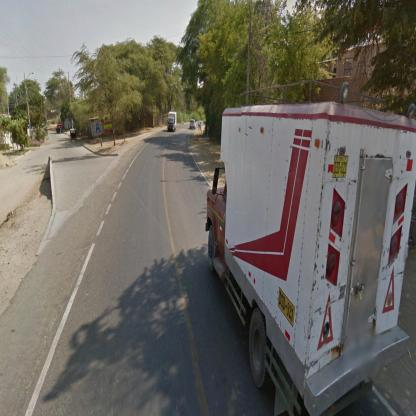Pista: (1, 122, 393, 410)
Vehiculo: (207, 102, 416, 416), (168, 112, 177, 132), (71, 130, 78, 143), (190, 120, 197, 130)
